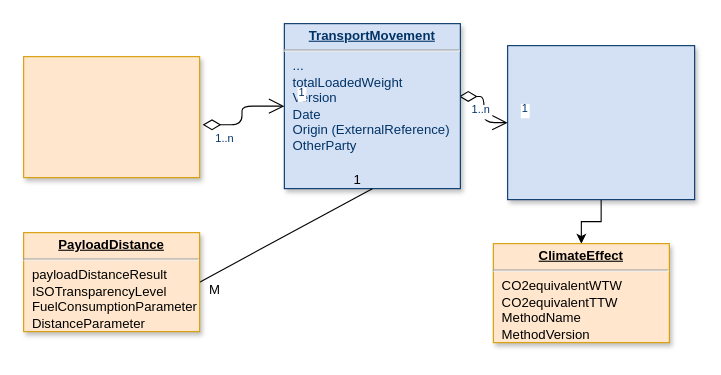
Some shapes in this 721 by 375 pixel diagram are drawn without their labels. The centre of each missing label's shape, as x and y in pixels:
Piece ....: point 601,123
TransportMeans ...: point 112,118
